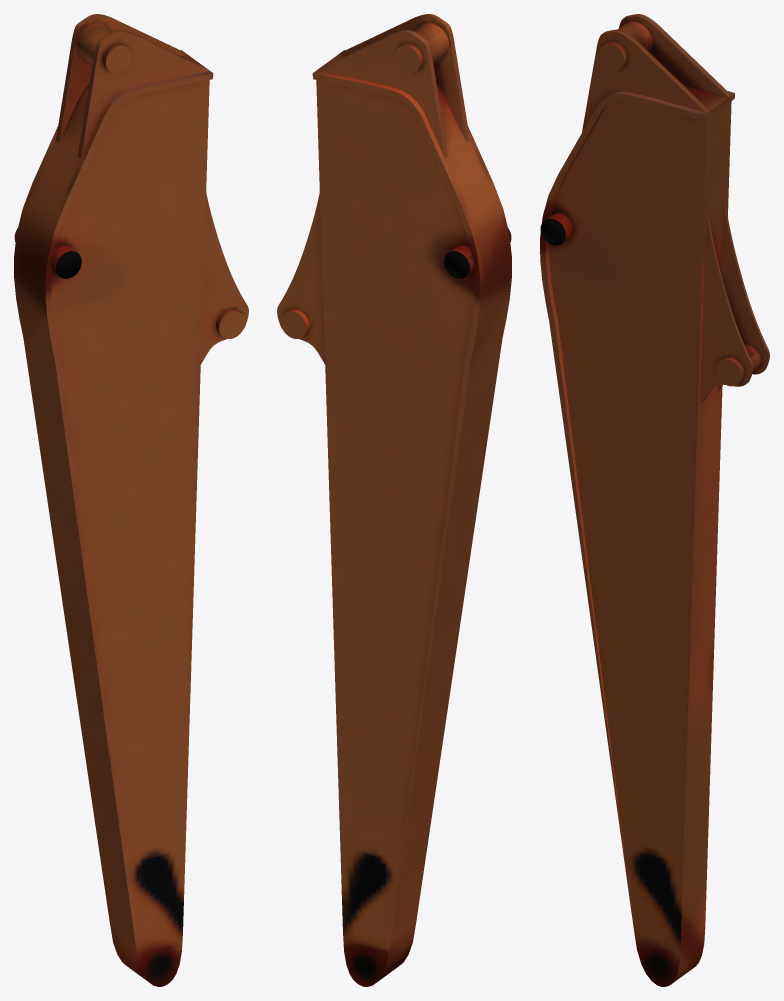
The model's file is zx120-arm.dae.
3 views of the same model, side by side, from view 1: azimuth 30°, elevation 25°; view 2: azimuth 150°, elevation 25°; view 3: azimuth 330°, elevation 25° (orthographic). The views are drawn at different scales.
Parts seen in each view (by area): view 1: arm, bm-arm-dm, bm-D-Cyl-dm, arm-R-Cyl-dm; view 2: arm, bm-arm-dm, bm-D-Cyl-dm, arm-R-Cyl-dm; view 3: arm, arm-R-Cyl-dm, bm-arm-dm, bm-D-Cyl-dm.
Part boxes in pixels (<box>): arm: <box>14,14,248,986</box>; bm-arm-dm: <box>14,228,81,278</box>; bm-D-Cyl-dm: <box>102,43,131,73</box>; arm-R-Cyl-dm: <box>216,309,244,338</box>; arm: <box>277,14,511,986</box>; bm-arm-dm: <box>444,228,511,278</box>; bm-D-Cyl-dm: <box>394,43,423,73</box>; arm-R-Cyl-dm: <box>281,309,309,338</box>; arm: <box>540,14,769,986</box>; arm-R-Cyl-dm: <box>716,344,761,386</box>; bm-arm-dm: <box>540,212,573,245</box>; bm-D-Cyl-dm: <box>599,41,627,70</box>.
Size of the model in its own units: 0.7414 by 0.254 by 3.26.
1 material, 1 textured.
